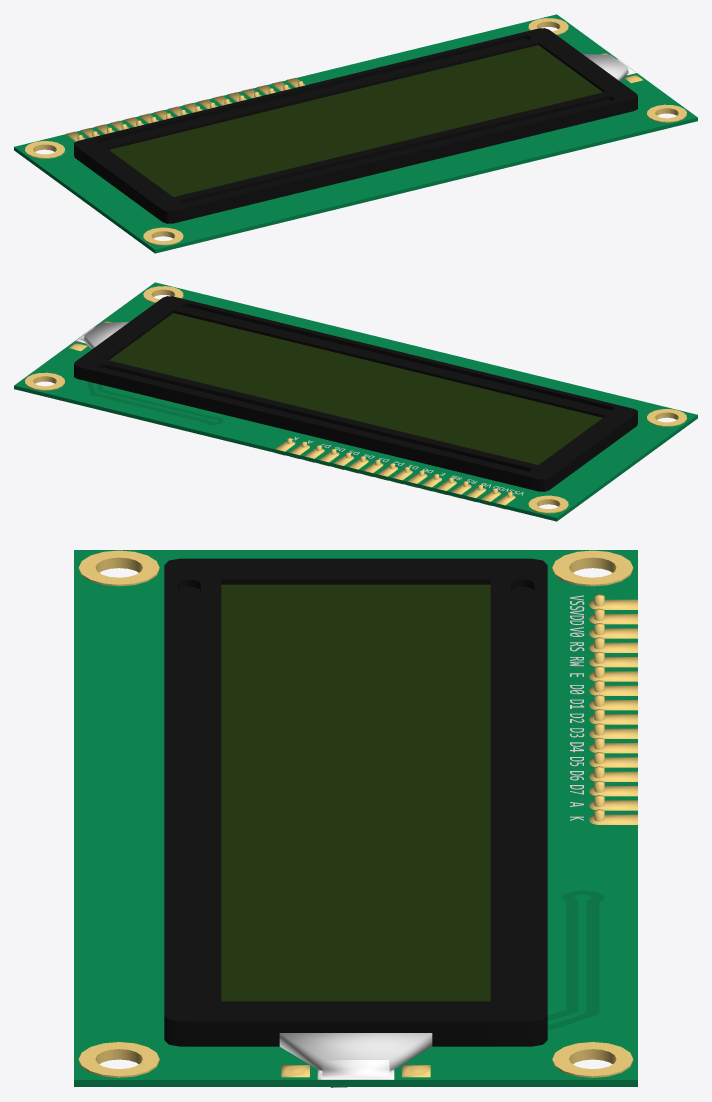
File: lcd16X2 (New Model).fbx
3 renders of one model, top to bottom at view 1: azimuth 30°, elevation 25°; view 2: azimuth 150°, elevation 25°; view 3: azimuth 270°, elevation 25°, orthographic. The views are drawn at different scales.
Visible parts, largest first — view 1: Lcd, Body, Plane.001, Cube.001; view 2: Lcd, Body, Plane.001, Cube.001, textAtas; view 3: Lcd, Body, Plane.001, Cube.001, textAtas.
Part boxes in pixels (x1=…): Lcd: x1=74, y1=28, x2=637, y2=223; Body: x1=14, y1=14, x2=697, y2=253; Plane.001: x1=66, y1=78, x2=305, y2=141; Cube.001: x1=583, y1=54, x2=636, y2=80; Lcd: x1=74, y1=296, x2=637, y2=491; Body: x1=14, y1=282, x2=697, y2=521; Plane.001: x1=275, y1=438, x2=515, y2=509; Cube.001: x1=75, y1=322, x2=128, y2=348; textAtas: x1=292, y1=437, x2=523, y2=495; Lcd: x1=164, y1=558, x2=547, y2=1046; Body: x1=74, y1=550, x2=637, y2=1086; Plane.001: x1=589, y1=594, x2=637, y2=824; Cube.001: x1=279, y1=1033, x2=432, y2=1087; textAtas: x1=570, y1=595, x2=584, y2=820.
Bounding box in the file's own units: 32 × 1.29 × 14.4.
9 materials, 1 textured.
